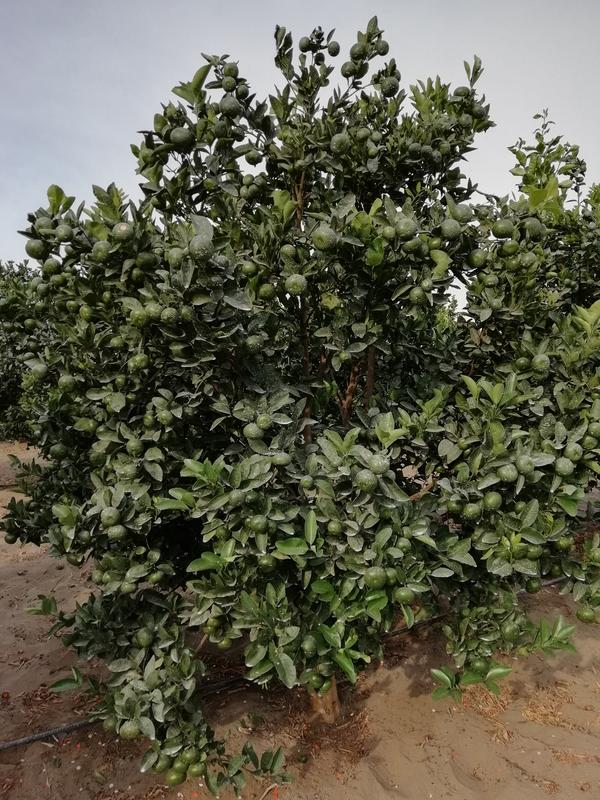mandarina verde: (189, 235, 214, 261), (312, 227, 338, 250), (365, 566, 387, 589), (171, 127, 194, 149), (219, 97, 242, 119), (355, 470, 379, 491), (286, 274, 308, 296), (439, 219, 461, 241), (520, 217, 542, 239), (111, 222, 134, 243), (25, 239, 49, 259), (93, 242, 114, 264), (554, 456, 575, 477), (243, 334, 264, 355), (396, 218, 417, 239), (330, 133, 350, 155), (380, 75, 399, 98), (500, 622, 521, 642), (451, 203, 473, 222), (463, 503, 483, 523), (516, 455, 536, 475), (168, 247, 184, 272), (369, 455, 390, 474), (493, 220, 514, 239), (135, 252, 158, 269), (484, 491, 503, 511), (498, 463, 518, 482), (129, 308, 148, 328), (395, 587, 416, 605), (136, 628, 155, 647), (126, 437, 145, 456), (564, 442, 583, 461), (531, 354, 550, 373), (120, 721, 140, 739), (100, 507, 120, 525), (250, 515, 268, 534), (577, 607, 596, 625), (500, 240, 520, 257), (241, 260, 259, 278), (470, 658, 489, 675), (469, 248, 486, 267), (55, 225, 74, 242), (58, 375, 77, 392), (167, 770, 187, 786), (50, 443, 70, 459), (154, 755, 172, 772), (161, 308, 179, 325), (78, 304, 96, 321), (179, 305, 196, 323), (243, 424, 262, 440), (350, 42, 366, 61), (108, 526, 128, 541), (181, 749, 199, 765), (256, 413, 274, 429), (408, 287, 426, 303), (271, 453, 293, 466), (42, 257, 61, 272), (403, 239, 422, 254), (229, 489, 245, 506), (482, 273, 499, 289), (520, 251, 537, 267), (258, 284, 276, 299), (188, 763, 207, 777), (385, 567, 399, 586), (301, 636, 317, 652), (396, 538, 412, 554), (224, 62, 240, 78), (33, 363, 48, 380), (582, 435, 599, 450), (381, 226, 396, 243), (341, 61, 356, 78), (148, 568, 164, 583), (309, 673, 325, 688), (526, 578, 542, 593), (527, 545, 543, 560), (280, 244, 296, 259), (470, 103, 485, 119), (102, 717, 116, 734), (246, 151, 263, 165), (375, 40, 389, 57), (158, 410, 173, 425), (506, 258, 521, 273), (143, 413, 157, 429), (35, 282, 51, 296), (222, 76, 236, 92), (109, 336, 125, 350), (428, 237, 444, 251), (327, 523, 344, 536), (216, 253, 229, 270), (453, 86, 471, 98), (459, 113, 473, 128), (122, 580, 138, 593), (66, 300, 79, 316), (51, 274, 67, 287), (299, 36, 311, 53), (588, 419, 600, 436), (328, 41, 340, 58), (301, 475, 315, 489), (420, 277, 434, 291), (447, 501, 461, 515), (356, 128, 370, 142), (367, 144, 380, 159), (515, 357, 529, 370), (409, 142, 422, 156), (215, 122, 226, 138), (102, 291, 115, 304), (219, 638, 233, 650), (330, 455, 344, 467), (490, 298, 503, 310), (35, 301, 48, 313), (242, 174, 255, 186), (4, 533, 18, 544), (315, 52, 325, 67), (24, 318, 36, 330), (237, 86, 250, 97), (93, 571, 103, 584), (403, 525, 412, 539), (372, 130, 381, 143), (102, 572, 112, 582)
